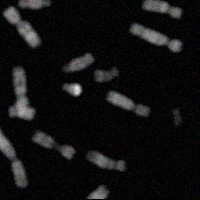chromosome: (0, 120, 27, 188), (3, 5, 41, 48), (129, 23, 182, 52), (30, 130, 75, 160), (106, 90, 149, 117), (86, 151, 126, 171), (12, 66, 27, 117), (141, 0, 182, 18), (62, 53, 94, 73), (94, 67, 119, 83), (9, 106, 35, 119), (18, 0, 51, 10), (62, 82, 82, 97), (172, 107, 181, 127)
